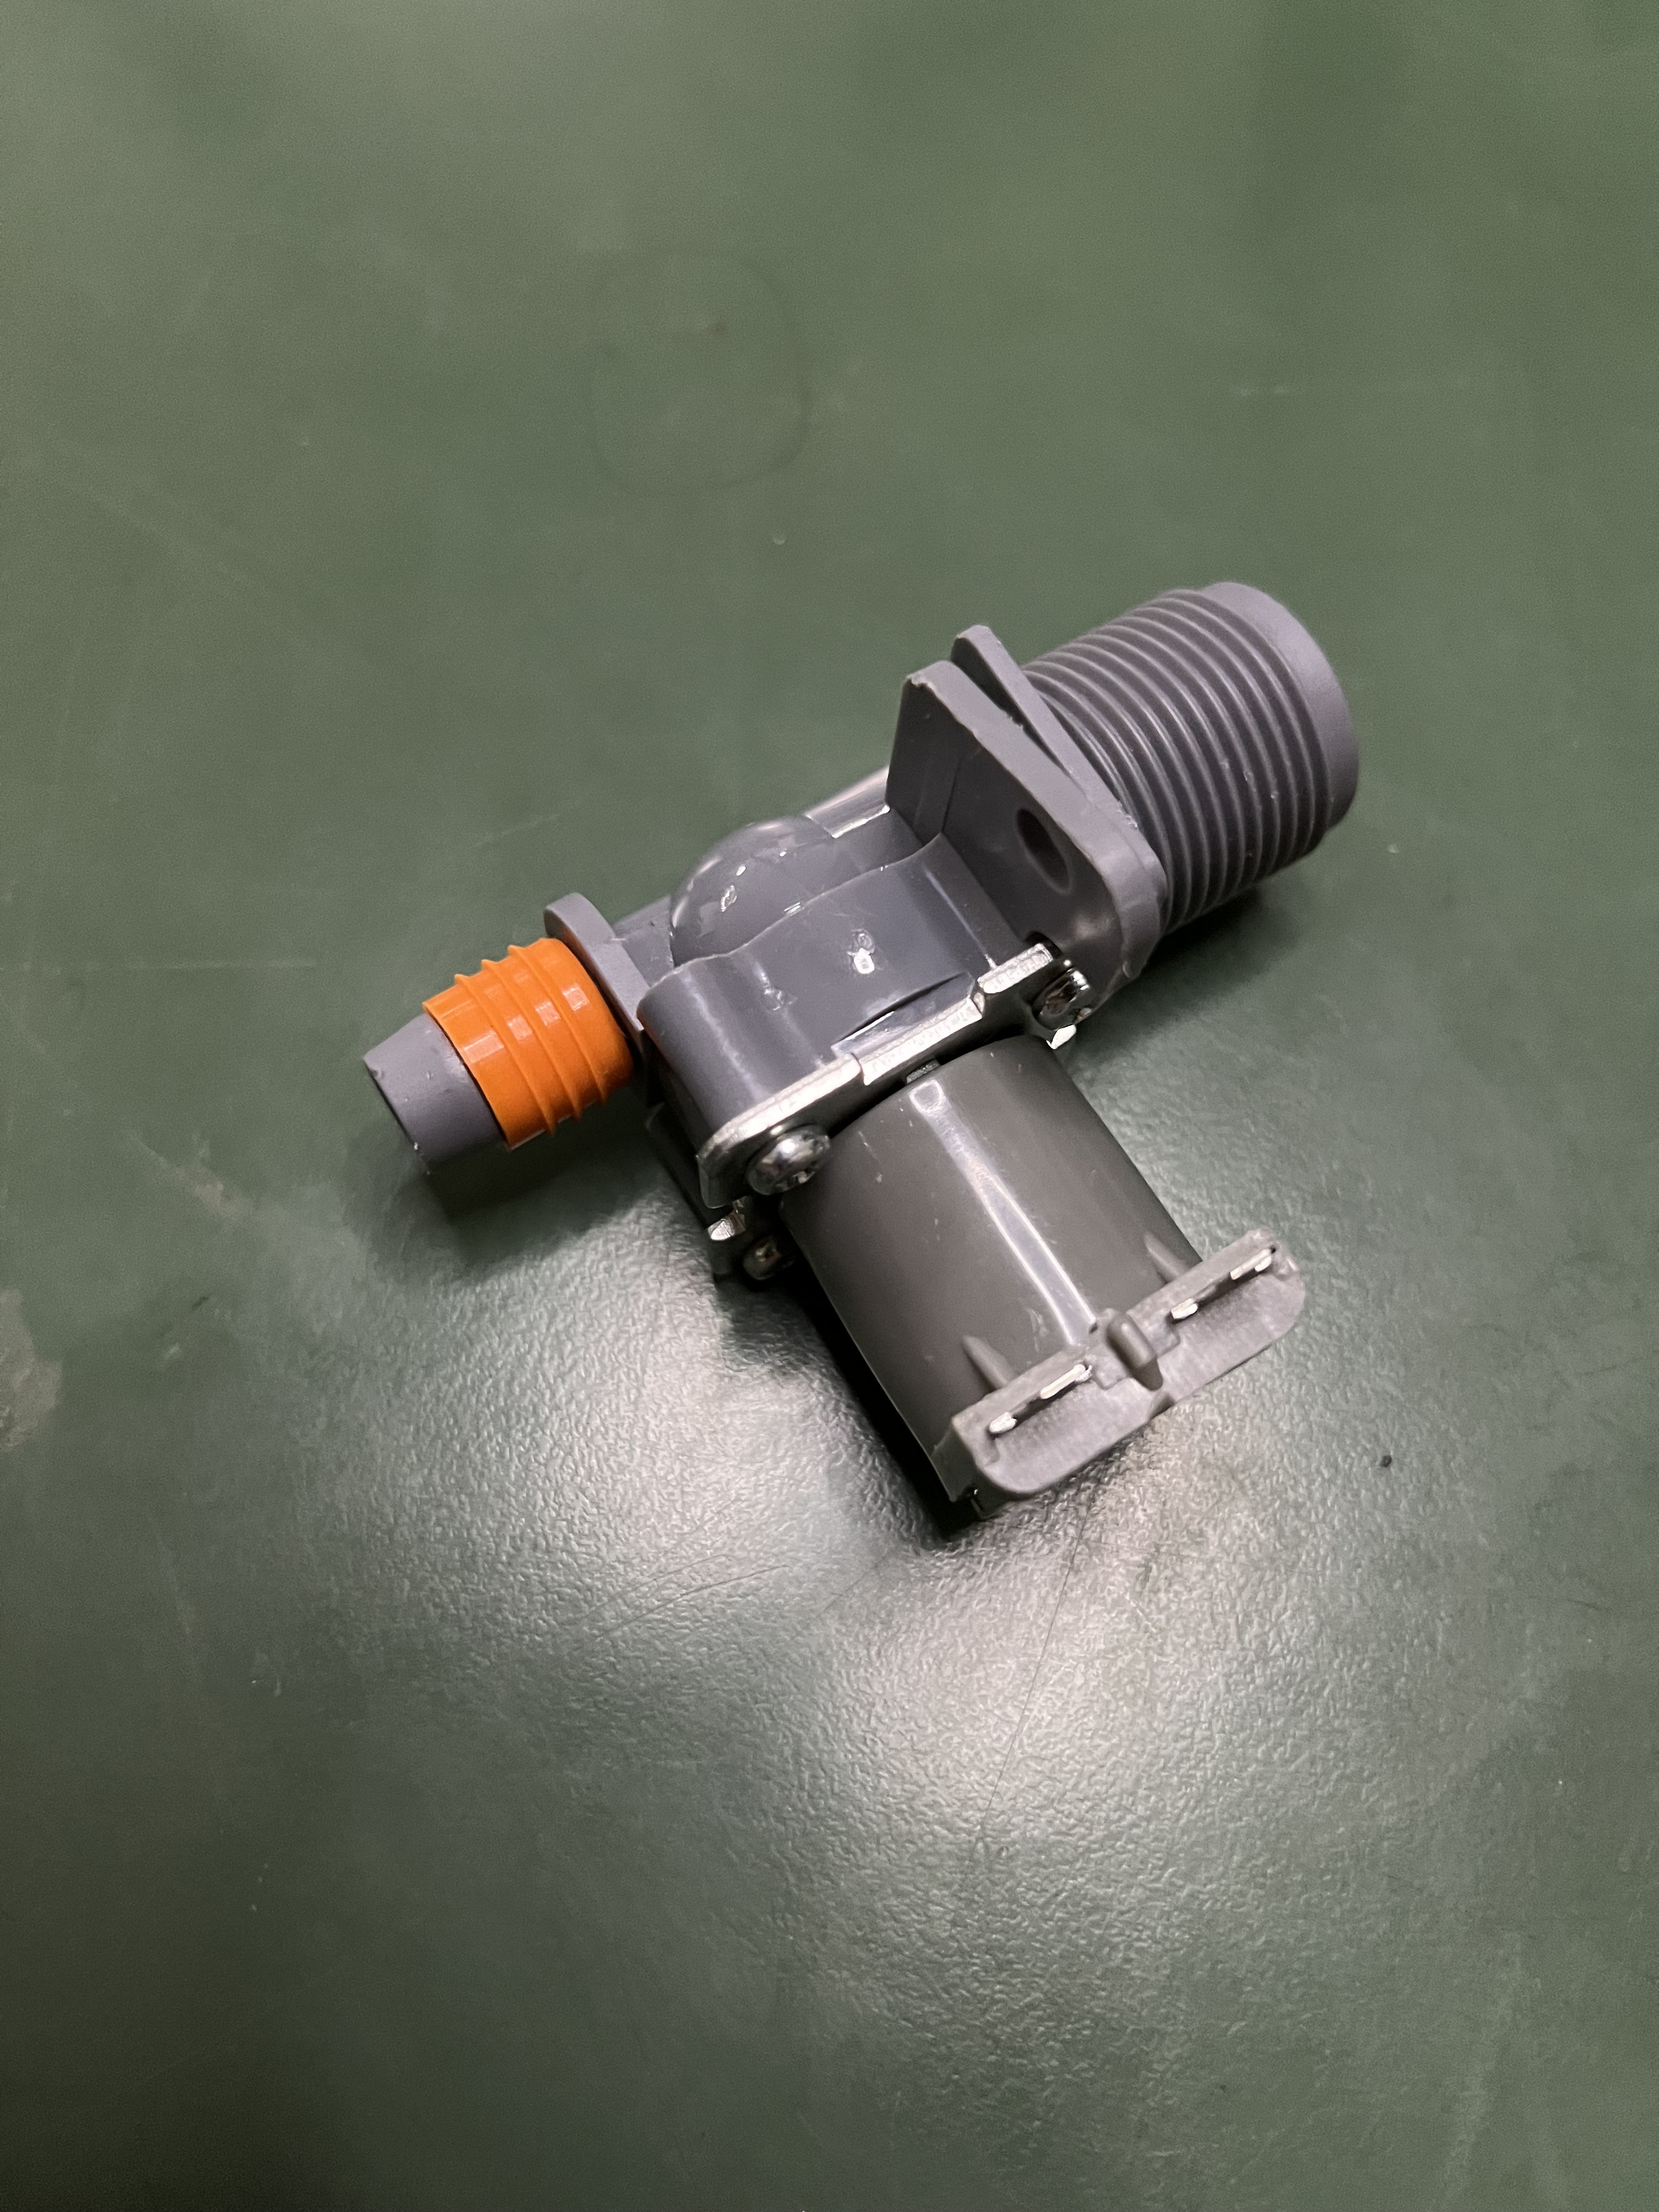inlet_valves: (343, 576, 1478, 1546)
